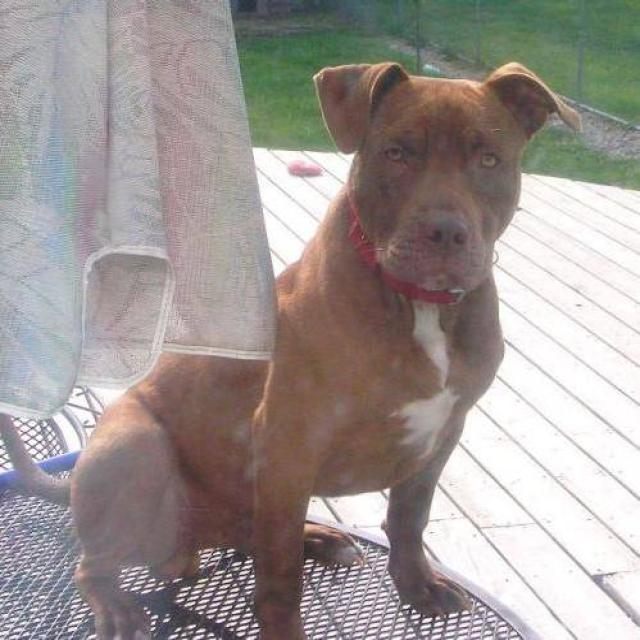relax: (39, 54, 586, 632)
